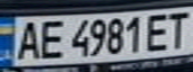1: (124, 12, 148, 53)
4: (66, 16, 90, 57)
8: (106, 15, 127, 55)
9: (87, 16, 109, 57)
A: (12, 18, 45, 61)
E: (33, 17, 66, 61), (142, 10, 175, 52)
T: (163, 8, 193, 50)
